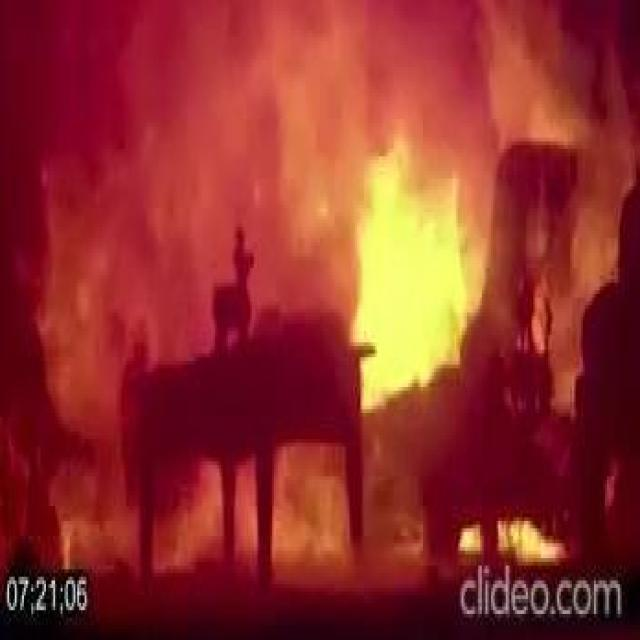smoke: (33, 85, 136, 566), (348, 130, 496, 394), (275, 442, 343, 580), (160, 465, 223, 573), (498, 514, 585, 566), (235, 462, 254, 566), (458, 519, 484, 560)
